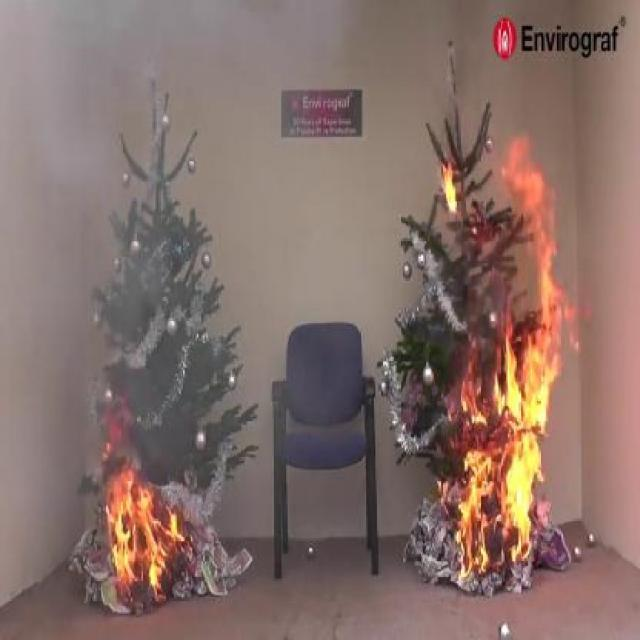fire: (418, 184, 562, 570), (94, 424, 180, 618)
smoke: (38, 65, 292, 328)
